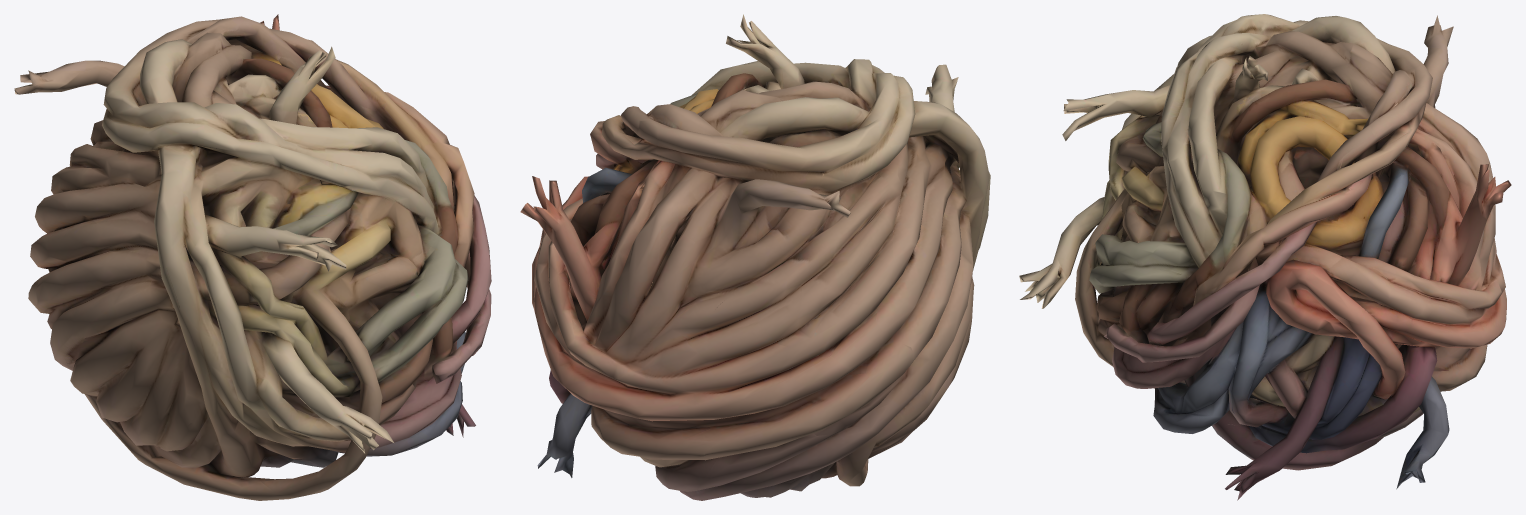
The model's file is cable-ball.glb.
The picture shows the model from 3 angles, left to right: view 1: azimuth 30°, elevation 25°; view 2: azimuth 150°, elevation 25°; view 3: azimuth 270°, elevation 25°; orthographic projection. The views are drawn at different scales.
Parts seen in each view (by area): view 1: tripo_node_01a308a8-fe2e-421f-9cad-6132b33cbd5f; view 2: tripo_node_01a308a8-fe2e-421f-9cad-6132b33cbd5f; view 3: tripo_node_01a308a8-fe2e-421f-9cad-6132b33cbd5f.
Boxes of the visible parts, x1,y1,x2,y2 form: tripo_node_01a308a8-fe2e-421f-9cad-6132b33cbd5f: (14, 14, 491, 500); tripo_node_01a308a8-fe2e-421f-9cad-6132b33cbd5f: (520, 14, 990, 500); tripo_node_01a308a8-fe2e-421f-9cad-6132b33cbd5f: (1019, 14, 1511, 500).
Size of the model in its own units: 0.8176 by 0.8995 by 1.
1 material, 1 textured.
